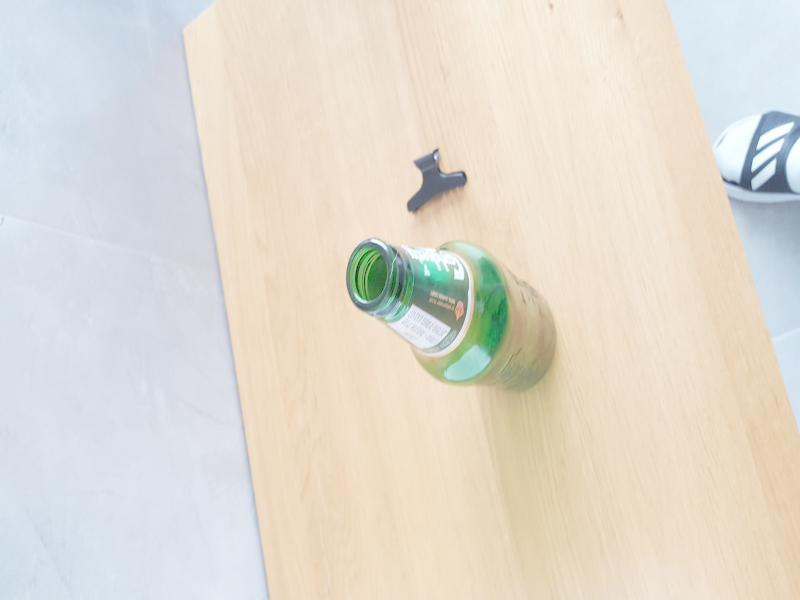Beer: (346, 237, 558, 392)
